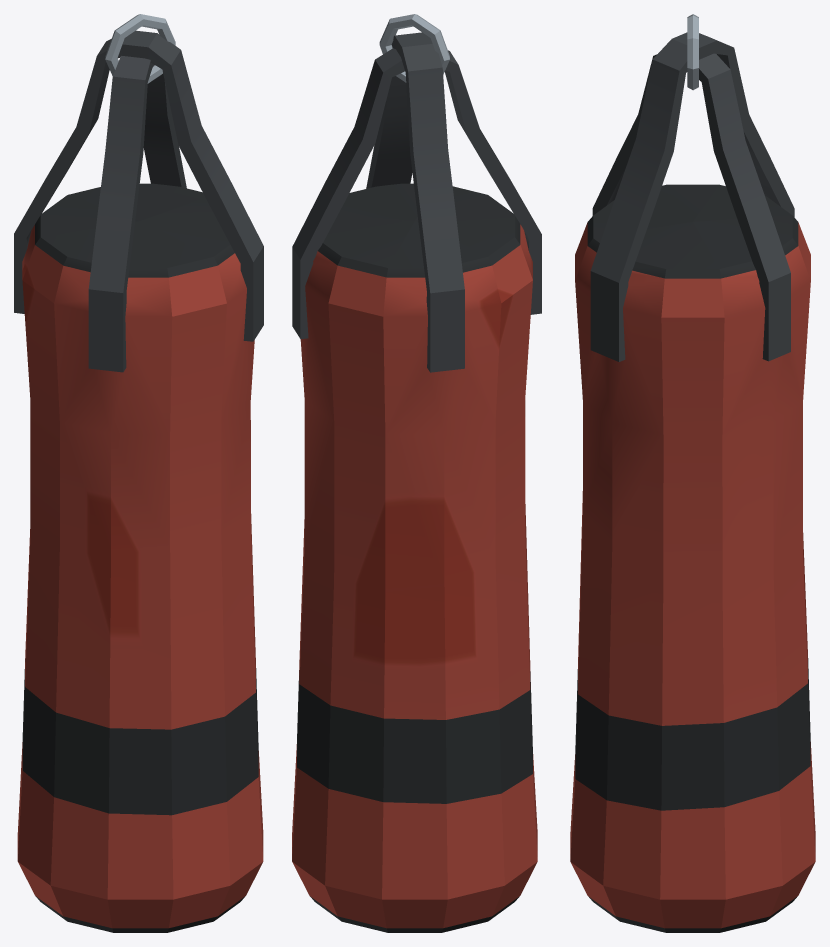
The model's file is SM_Prop_Gym_Boxing_Bag_01.obj.
3 renders of one model, left to right at view 1: azimuth 30°, elevation 25°; view 2: azimuth 150°, elevation 25°; view 3: azimuth 270°, elevation 25°, orthographic.
Visible parts, largest first — view 1: SM_Prop_Gym_Boxing_Bag_01_0; view 2: SM_Prop_Gym_Boxing_Bag_01_0; view 3: SM_Prop_Gym_Boxing_Bag_01_0.
Boxes of the visible parts, x1=… form: SM_Prop_Gym_Boxing_Bag_01_0: x1=14, y1=14, x2=263, y2=932; SM_Prop_Gym_Boxing_Bag_01_0: x1=292, y1=14, x2=541, y2=932; SM_Prop_Gym_Boxing_Bag_01_0: x1=570, y1=14, x2=815, y2=932.
Size of the model in its own units: 0.4896 by 1.94 by 0.4896.
Materials: 1 (1 with a texture image).
